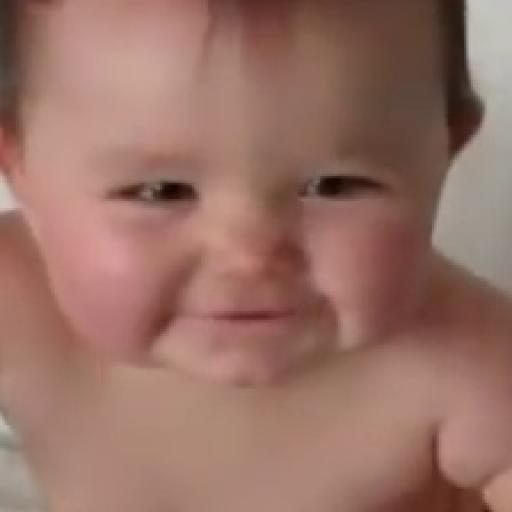Autism: (8, 11, 512, 423)
